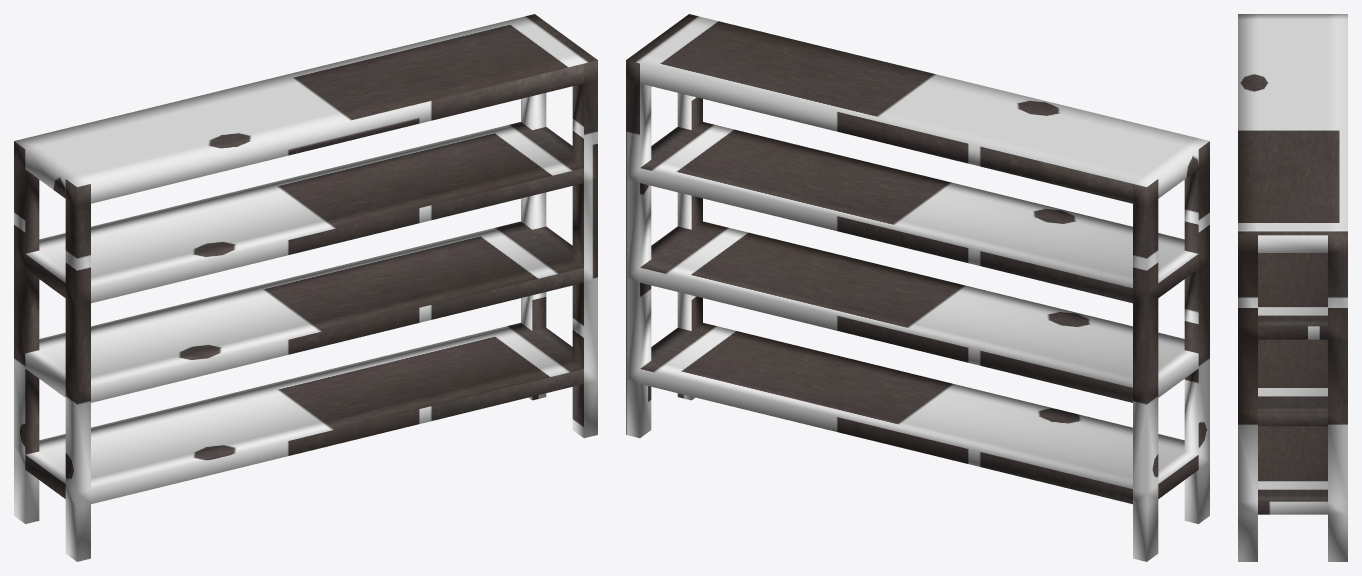
The model's file is Shelving3Slots.fbx.
The picture shows the model from 3 angles, left to right: view 1: azimuth 30°, elevation 25°; view 2: azimuth 150°, elevation 25°; view 3: azimuth 270°, elevation 25°; orthographic projection. The views are drawn at different scales.
Parts seen in each view (by area): view 1: Shelving3Slots; view 2: Shelving3Slots; view 3: Shelving3Slots.
Boxes of the visible parts, box(x1,y1,x2,y2) form: Shelving3Slots: box(14, 14, 597, 561); Shelving3Slots: box(626, 14, 1209, 561); Shelving3Slots: box(1238, 14, 1347, 561).
Size of the model in its own units: 270 by 186 by 56.62.
